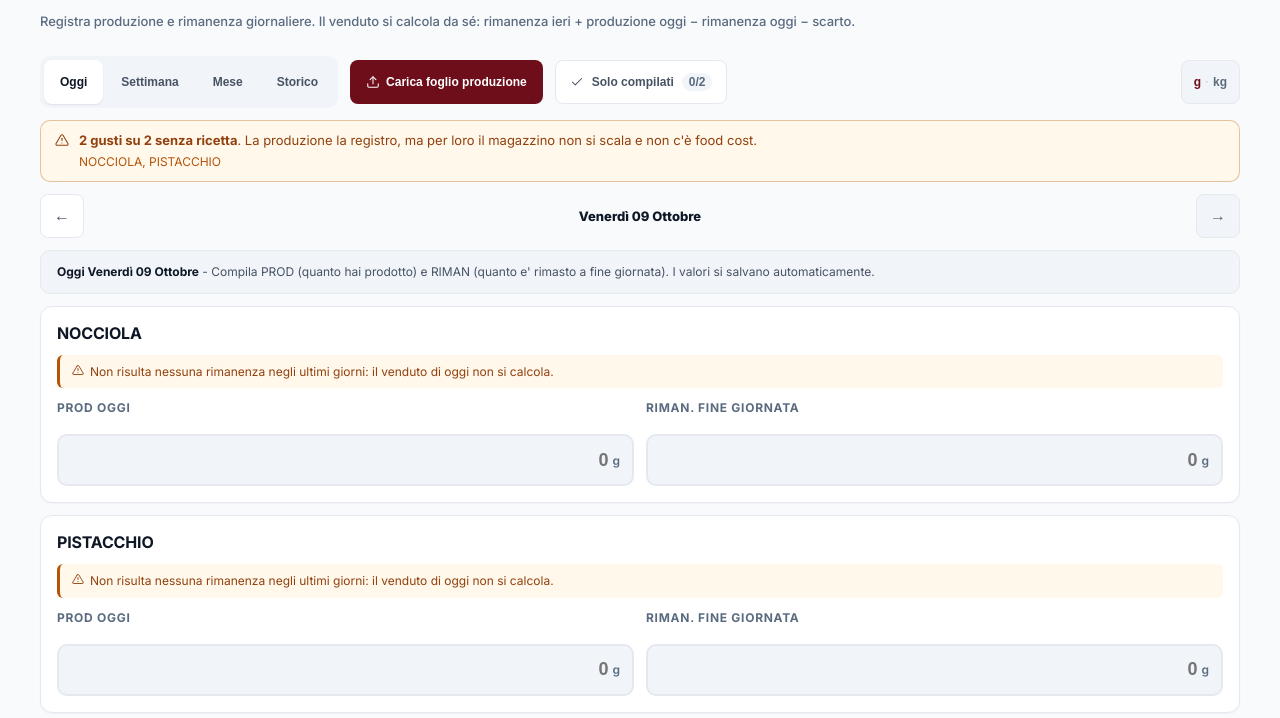
Test: produzione sul telefono: settimana e mese a schede › il mese non renderizza la tabella da 680px
The image size is (1280, 718).
Click the button "Mese" at (228, 82), box left=197, top=60, right=259, bottom=104
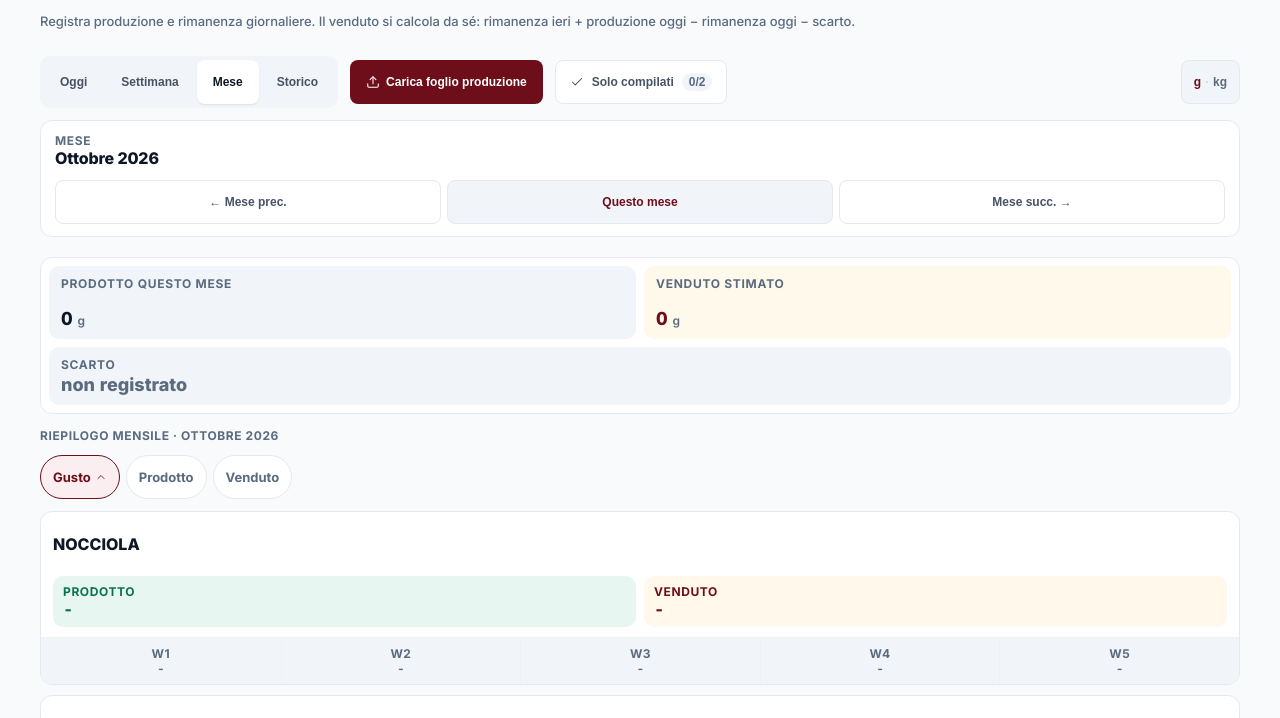
Expected: the text "W1" is shown, left=152, top=646, right=170, bottom=660
Expected: the text "W5" is shown, left=1109, top=646, right=1130, bottom=660
